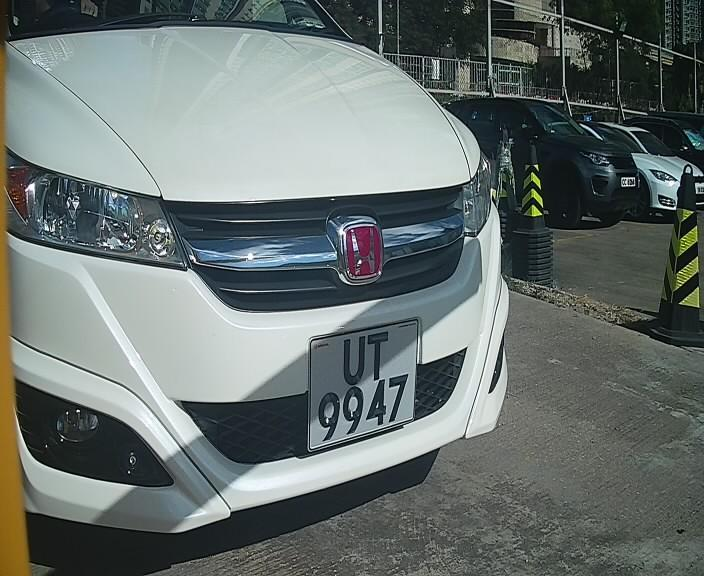privatecar: (2, 7, 527, 554)
